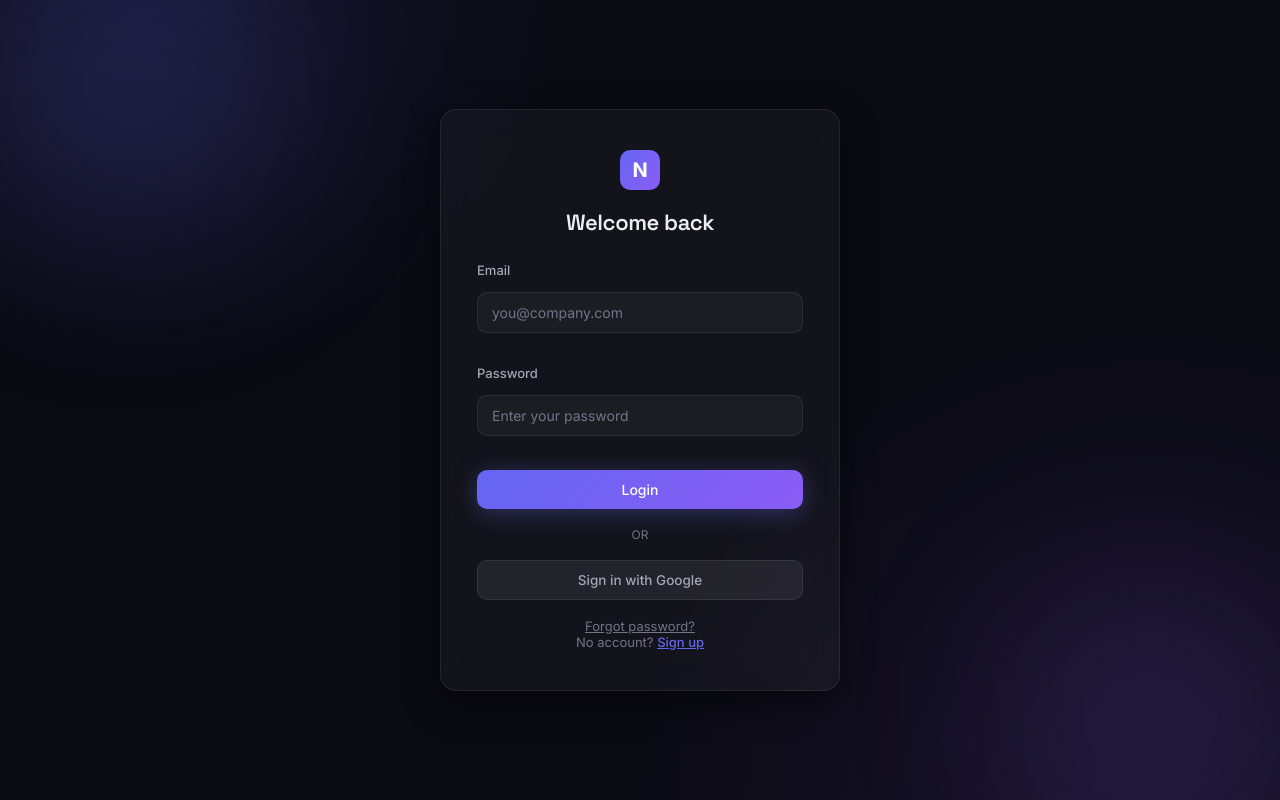
Login › shows an error message when credentials are rejected
Type "a@b.com" into the field with placeholder "you@company.com" at (640, 312), box [477,292,803,333]
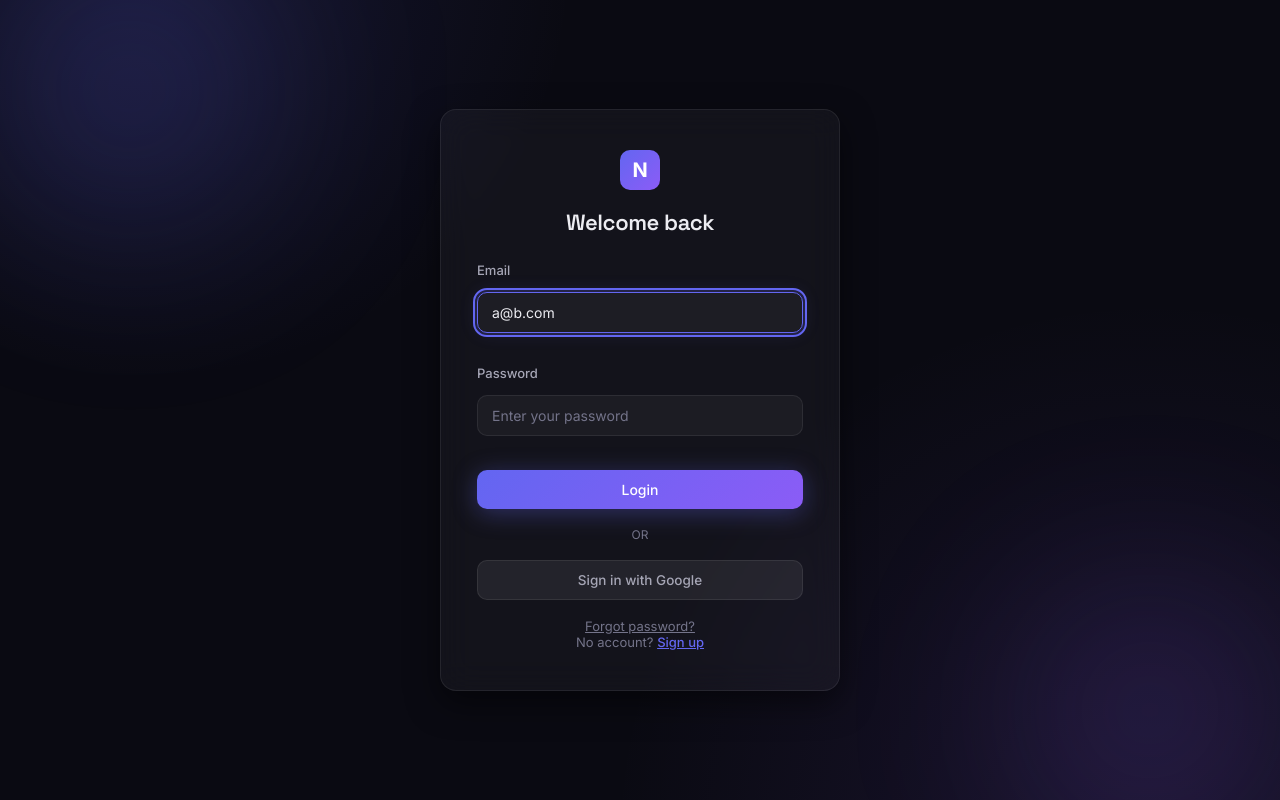
Type "wrong" into the password field with placeholder "Enter your password" at (640, 416), box [477,395,803,436]
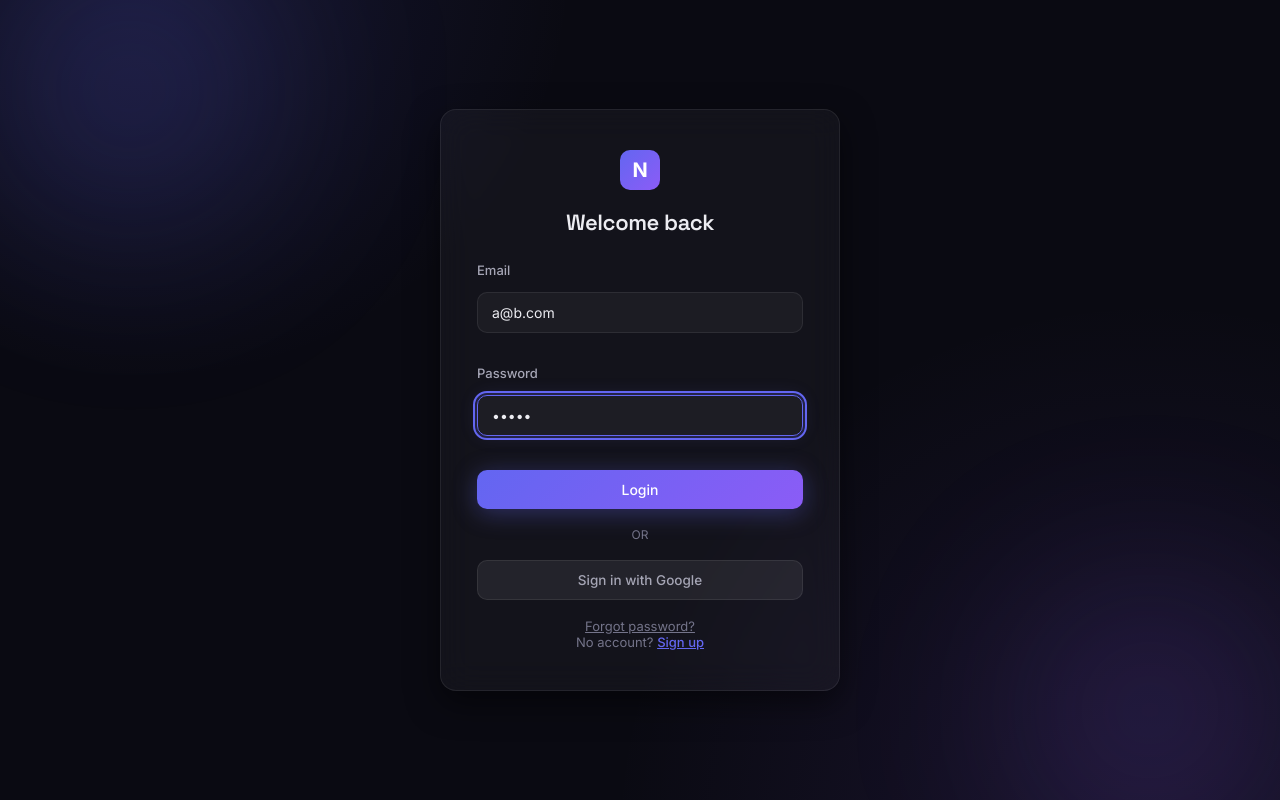
Click the button "Login" at (640, 490), box [477,470,803,509]
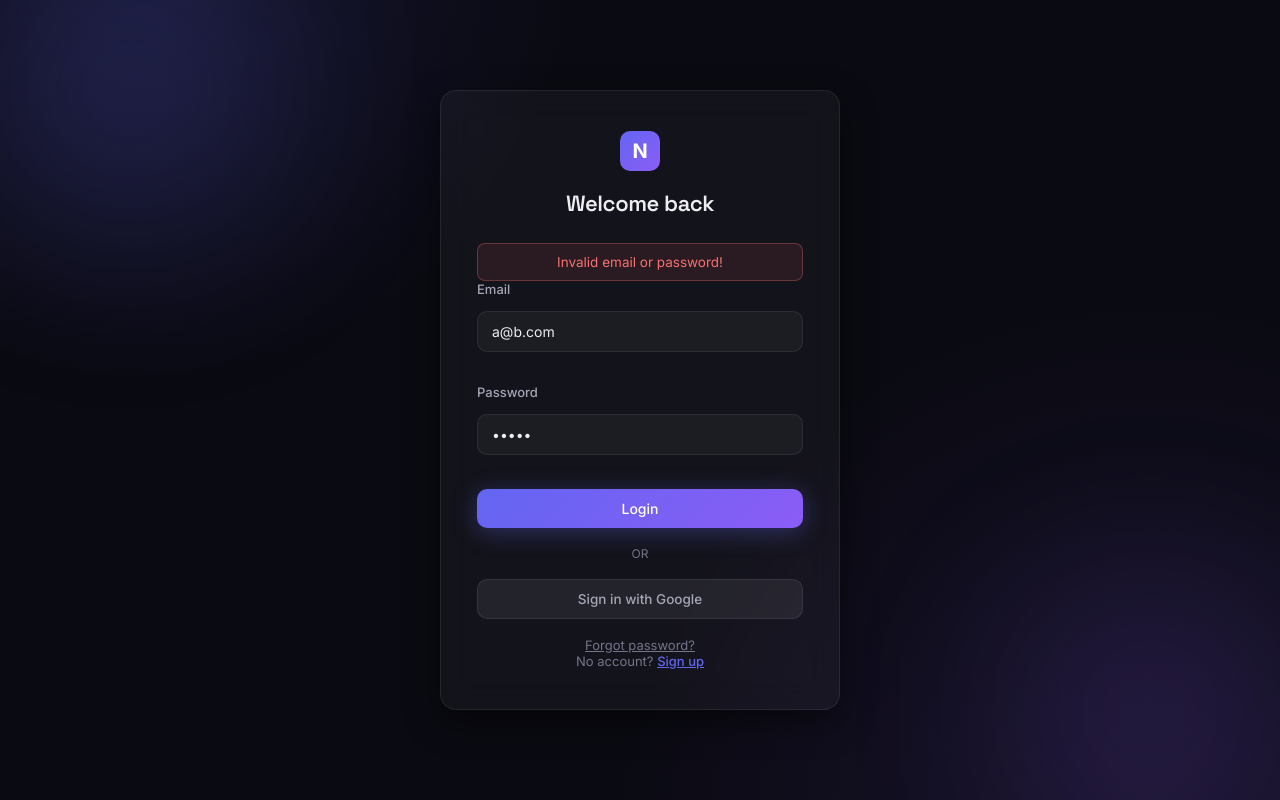
Check: the text "Invalid email or password!" is shown, box [477,243,803,281]
